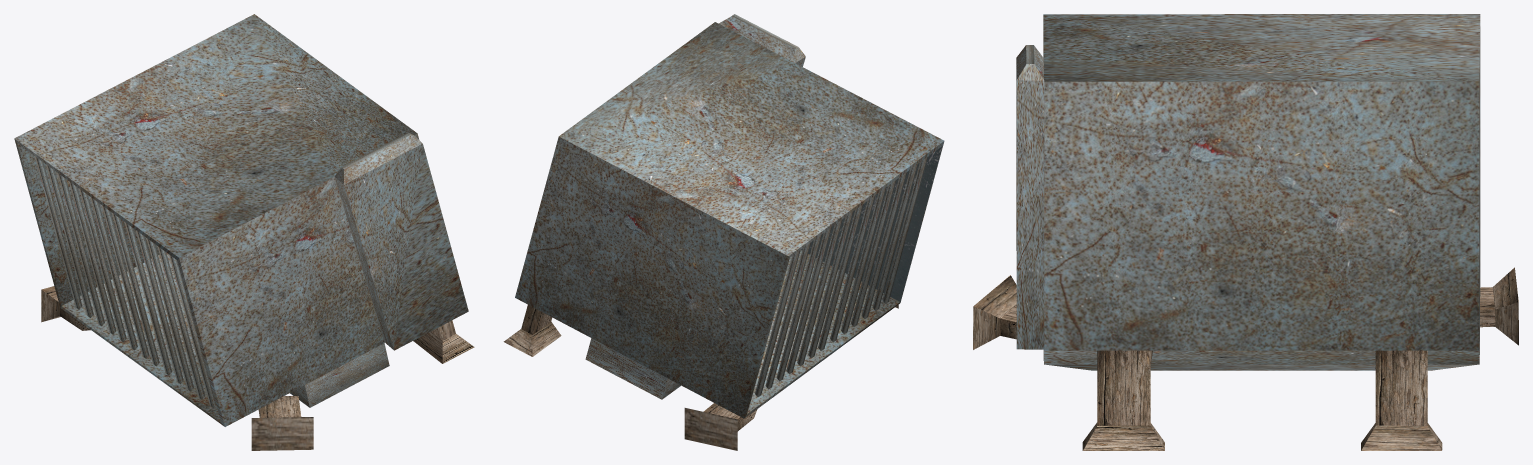
File: CageSTANDfalling.FBX
The picture shows the model from 3 angles, left to right: view 1: azimuth 30°, elevation 25°; view 2: azimuth 150°, elevation 25°; view 3: azimuth 270°, elevation 25°; orthographic projection. The views are drawn at different scales.
Parts seen in each view (by area): view 1: Wagon; view 2: Wagon; view 3: Wagon.
Part boxes in pixels (x1,y1,x2,y2): Wagon: (14,14,474,450); Wagon: (503,14,944,450); Wagon: (973,14,1518,450).
Size of the model in its own units: 63.5 by 53.8 by 72.27.
Materials: 1 (1 with a texture image).
